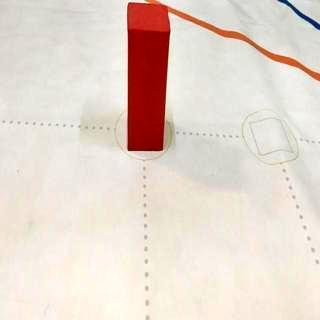redbox: (126, 2, 170, 151)
